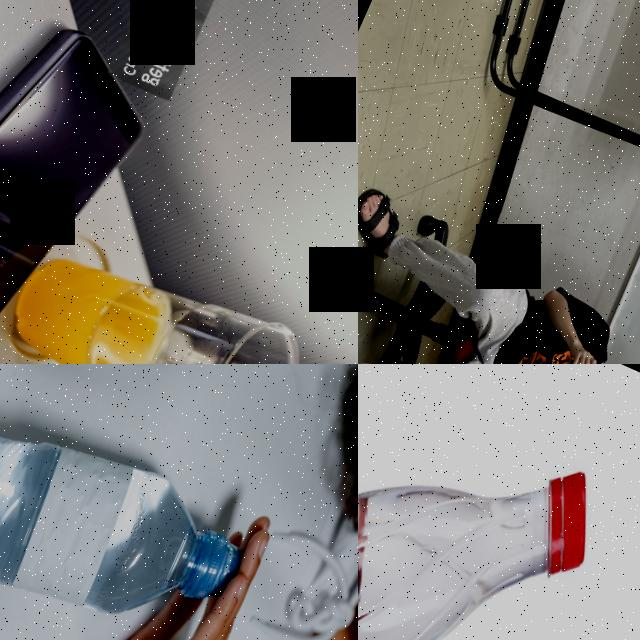bottle: (358, 364, 625, 640), (0, 364, 251, 640)
cup: (0, 216, 325, 364), (555, 349, 608, 364)
